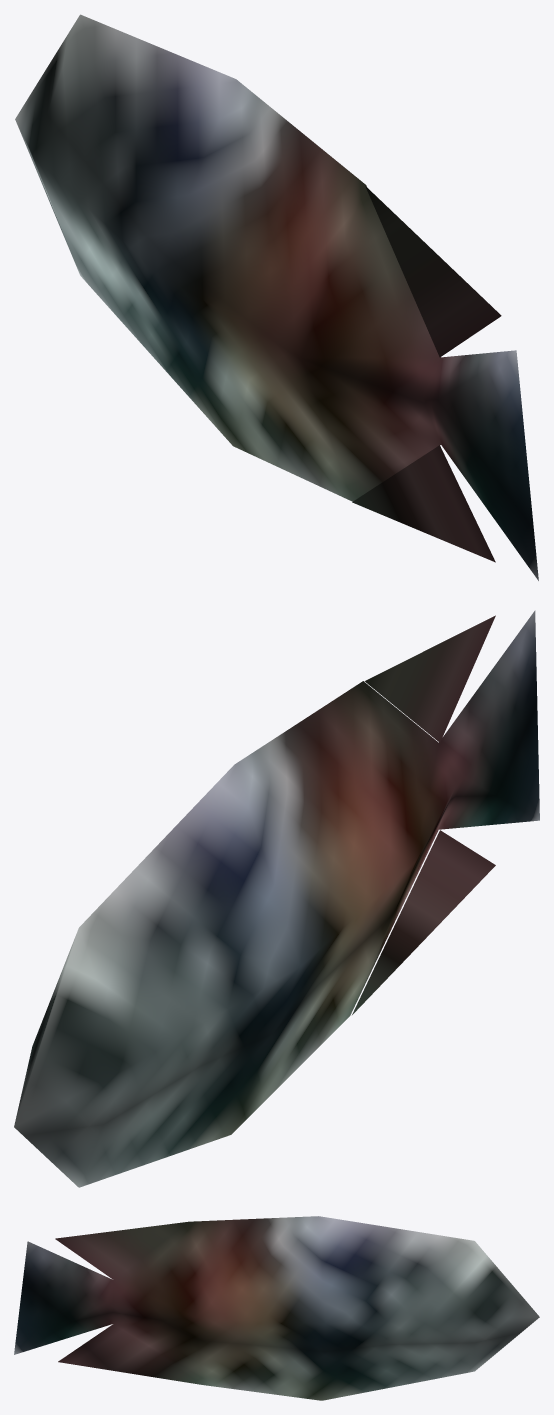
The model's file is animal.fish_2.glb.
3 views of the same model, one above another, from view 1: azimuth 30°, elevation 25°; view 2: azimuth 150°, elevation 25°; view 3: azimuth 270°, elevation 25° (orthographic). The views are drawn at different scales.
Parts seen in each view (by area): view 1: Cube010; view 2: Cube010; view 3: Cube010.
Part boxes in pixels (x1,y1,x2,y2): Cube010: [15, 14, 538, 580]; Cube010: [14, 610, 539, 1187]; Cube010: [14, 1216, 539, 1400].
Size of the model in its own units: 0.0644 by 0.155 by 0.4.
1 material, 1 textured.
